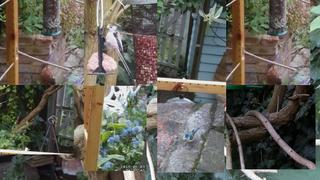blue tit: (182, 127, 200, 150)
long tailed tit: (103, 24, 133, 80)
